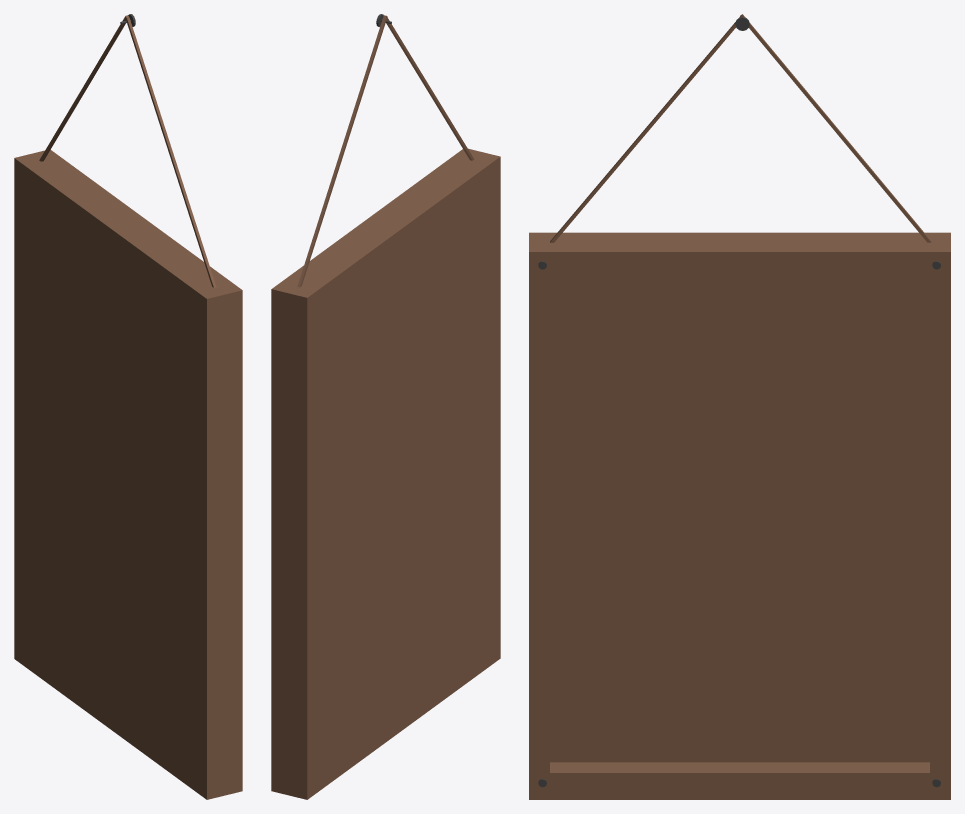
File: portrait.fbx
3 views of the same model, side by side, from view 1: azimuth 30°, elevation 25°; view 2: azimuth 150°, elevation 25°; view 3: azimuth 270°, elevation 25° (orthographic). The views are drawn at different scales.
Visible parts, largest first — view 1: Cylinder.004; view 2: Cylinder.004; view 3: Cylinder.004.
Boxes of the visible parts, <box> form: Cylinder.004: <box>14,14,242,799</box>; Cylinder.004: <box>271,14,500,799</box>; Cylinder.004: <box>529,14,950,799</box>.
Bounding box in the file's own units: 28.26 × 512 × 252.
